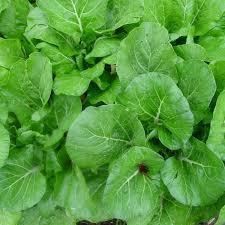Healthy-Pechay: (3, 2, 225, 225)
